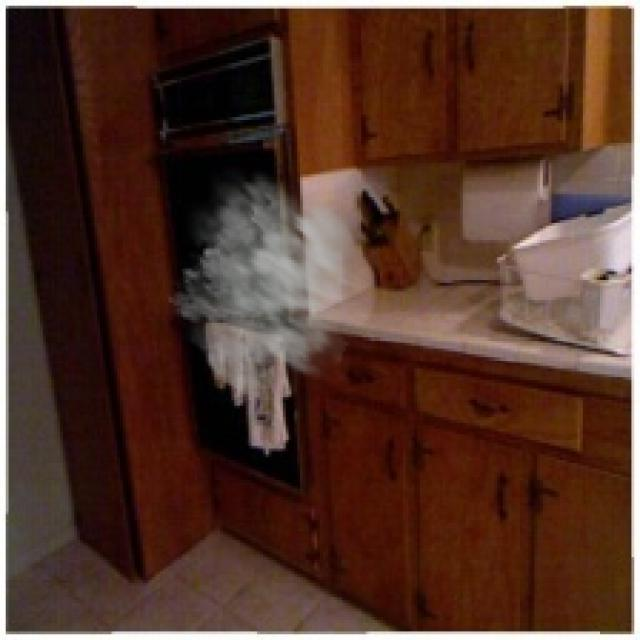Smoke: (166, 162, 391, 412)
